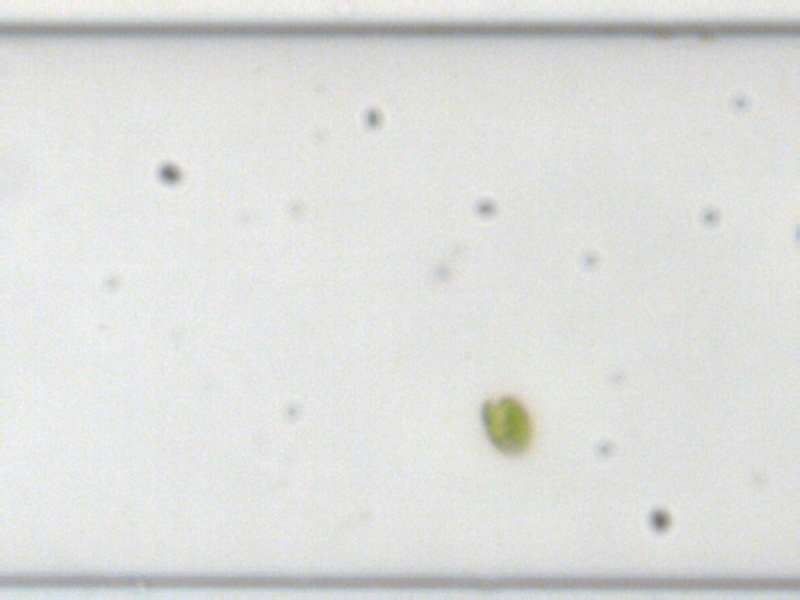Platymonas: (482, 398, 530, 452)
